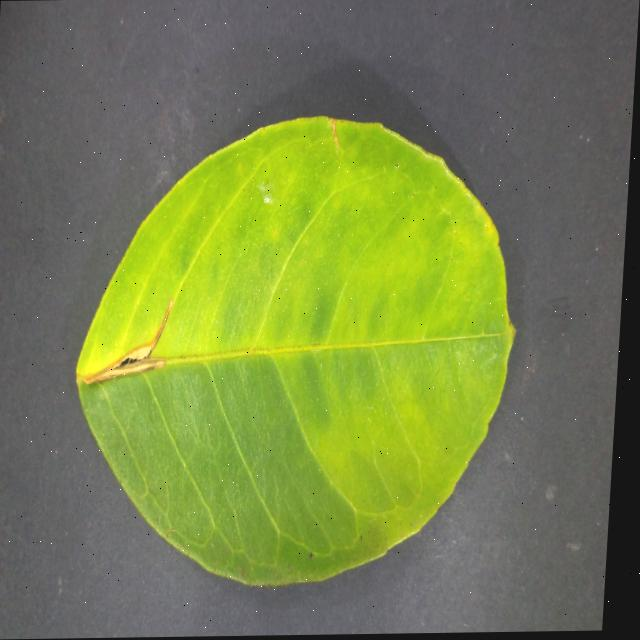greening: (76, 116, 514, 583)
